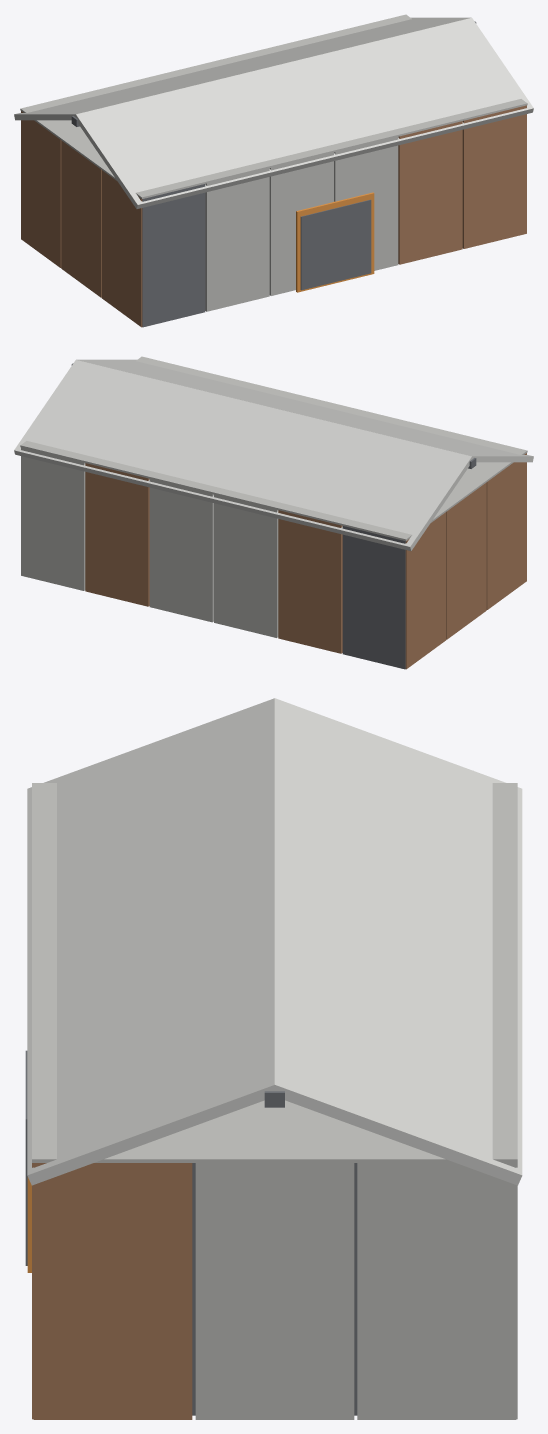
File: B_hall_c.glb
3 renders of one model, top to bottom at view 1: azimuth 30°, elevation 25°; view 2: azimuth 150°, elevation 25°; view 3: azimuth 270°, elevation 25°, orthographic. The views are drawn at different scales.
Visible parts, largest first — view 1: Cube.022, Cube.004, Cube.001, Cube.005, Cube, Cube.019, Cube.023, Cube.021, Cube.013, Cube.014, Cube.012, Cube.002 (+2 smaller); view 2: Cube.023, Cube.010, Cube.008, Cube.007, Cube.009, Cube.011, Cube.006, Cube.019, Cube.022, Cube.013, Cube.012, Cube.014; view 3: Cube.023, Cube.022, Cube.016, Cube.015, Cube.017, Cube.019, Cube.018.
Part boxes in pixels (bbox=[...]): Cube.022: bbox=[75, 18, 533, 208]; Cube.004: bbox=[398, 121, 462, 264]; Cube.001: bbox=[205, 168, 269, 311]; Cube.005: bbox=[462, 105, 526, 248]; Cube: bbox=[142, 184, 205, 327]; Cube.019: bbox=[20, 14, 527, 198]; Cube.023: bbox=[14, 17, 471, 120]; Cube.021: bbox=[300, 199, 371, 290]; Cube.013: bbox=[61, 140, 101, 297]; Cube.014: bbox=[21, 111, 61, 267]; Cube.012: bbox=[101, 170, 142, 327]; Cube.002: bbox=[269, 152, 333, 295]; Cube.023: bbox=[14, 360, 472, 550]; Cube.010: bbox=[85, 463, 149, 606]; Cube.008: bbox=[214, 494, 278, 637]; Cube.007: bbox=[278, 510, 342, 653]; Cube.009: bbox=[149, 479, 213, 622]; Cube.011: bbox=[21, 447, 85, 590]; Cube.006: bbox=[342, 526, 405, 669]; Cube.019: bbox=[20, 356, 527, 540]; Cube.022: bbox=[76, 359, 533, 462]; Cube.013: bbox=[446, 482, 486, 639]; Cube.012: bbox=[486, 453, 526, 609]; Cube.014: bbox=[405, 512, 446, 669]; Cube.023: bbox=[272, 698, 522, 1185]; Cube.022: bbox=[27, 698, 277, 1185]; Cube.016: bbox=[195, 1163, 354, 1419]; Cube.015: bbox=[33, 1163, 192, 1419]; Cube.017: bbox=[357, 1163, 516, 1419]; Cube.019: bbox=[32, 783, 517, 1162]; Cube.018: bbox=[192, 1163, 357, 1415].
Bounding box in the file's own units: 22.8 × 9.38 × 12.28.
